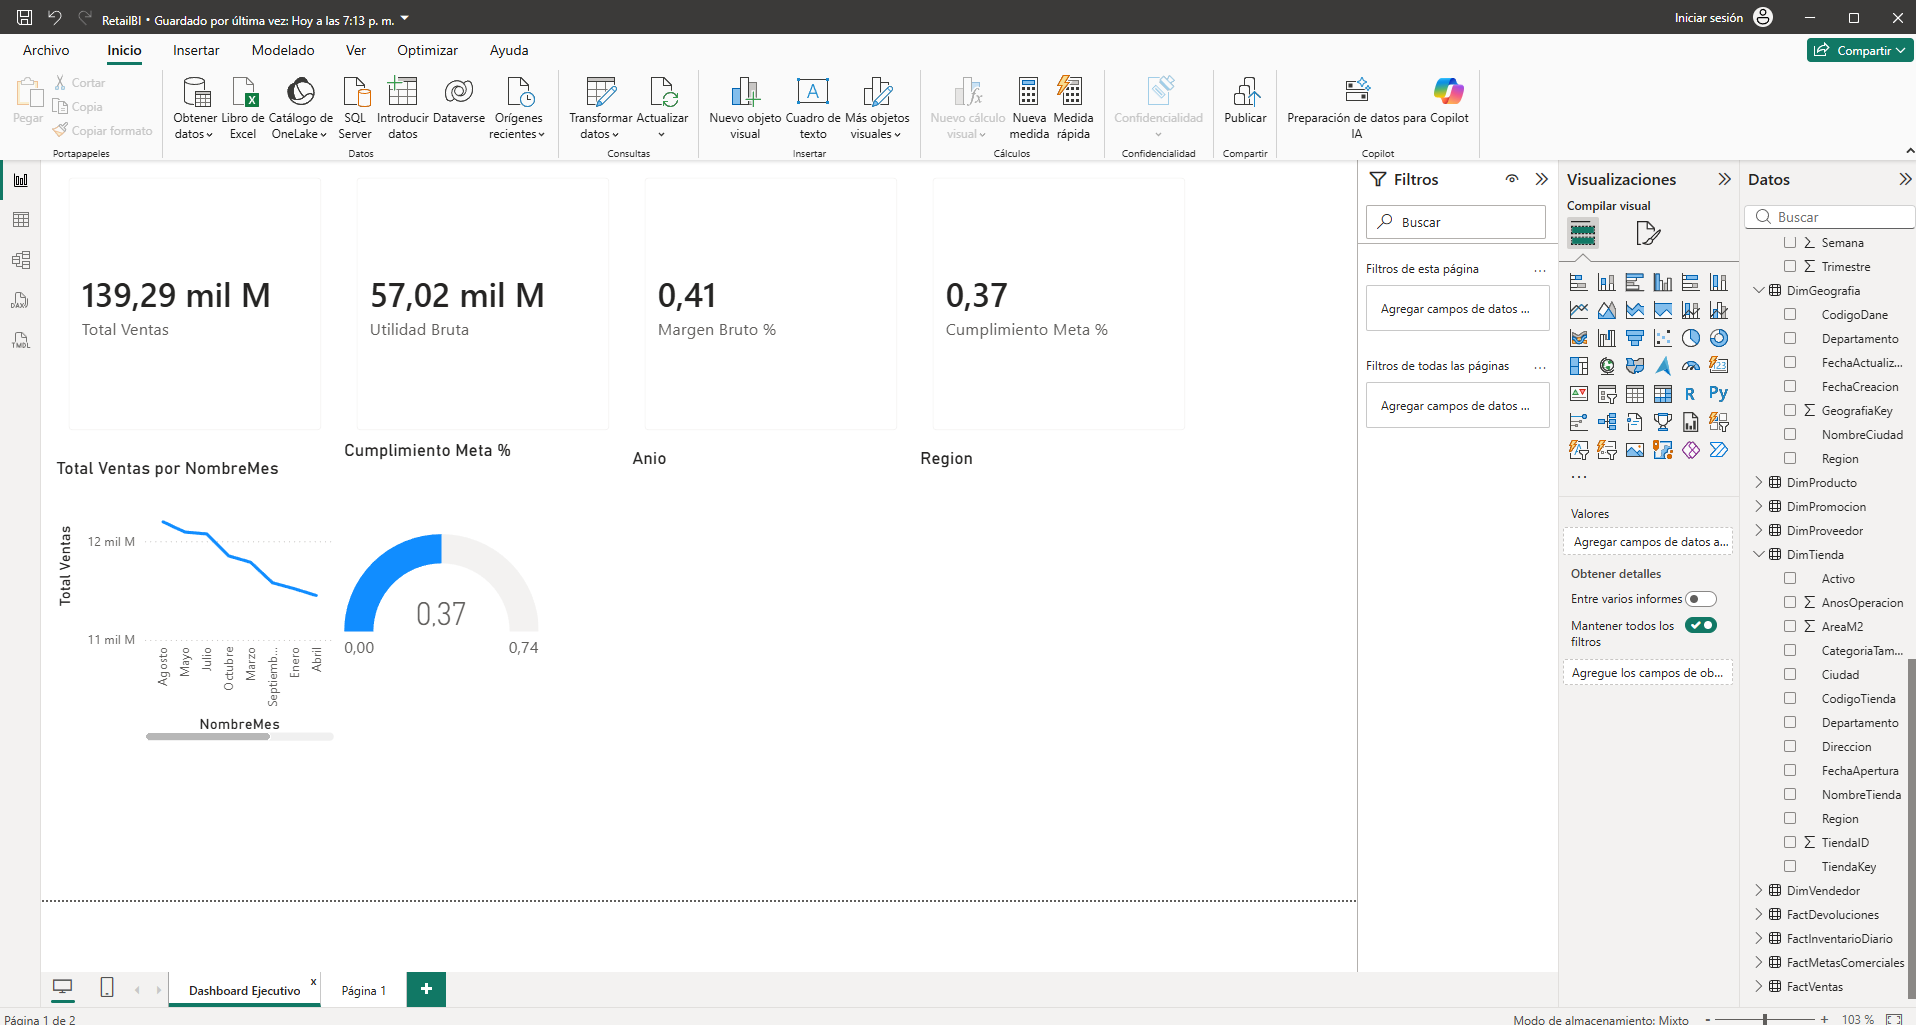

What the dashboard file says about the page in this screenshot:
{"tool":"powerbi","page":{"name":"Dashboard Ejecutivo","canvas":[1280,720],"ordinal":0},"visuals":[{"type":"cardVisual","fields":{"Data":["_Medidas.Total Ventas"]},"box":[9.9,0,254.6,233.8],"z":0},{"type":"cardVisual","fields":{"Data":["_Medidas.Utilidad Bruta"]},"box":[256.6,5.9,259.6,227.9],"z":1000},{"type":"cardVisual","fields":{"Data":["_Medidas.Margen Bruto %"]},"box":[517.2,0,244.7,233.8],"z":2000},{"type":"cardVisual","fields":{"Data":["_Medidas.Cumplimiento Meta %"]},"box":[765.8,0,238.8,233.8],"z":3000},{"type":"lineChart","fields":{"Category":["DimFecha.NombreMes"],"Y":["_Medidas.Total Ventas"]},"box":[9.9,233.8,539.9,286.3],"z":4000},{"type":"gauge","fields":{"Y":["_Medidas.Cumplimiento Meta %"]},"box":[549.8,225.9,435.9,281.4],"z":5000},{"type":"funnel","fields":{"Category":["DimFecha.Anio"]},"box":[1012.5,20.8,100.1,87.2],"z":6000},{"type":"funnel","fields":{"Category":["DimTienda.Region"]},"box":[1012.5,108,107,106],"z":7000}]}

Visuals, with their boxes on the page's 1280x720 design canvas (x1, y1, x2, y2). These are canvas units, not pixel positions in the 1916x1025 screenshot, which may show the page scaled, cropped or inside an application window:
cardVisual - _Medidas.Total Ventas: bbox=[10, 0, 264, 234]
cardVisual - _Medidas.Utilidad Bruta: bbox=[257, 6, 516, 234]
cardVisual - _Medidas.Margen Bruto %: bbox=[517, 0, 762, 234]
cardVisual - _Medidas.Cumplimiento Meta %: bbox=[766, 0, 1005, 234]
lineChart - DimFecha.NombreMes x _Medidas.Total Ventas: bbox=[10, 234, 550, 520]
gauge - _Medidas.Cumplimiento Meta %: bbox=[550, 226, 986, 507]
funnel - DimFecha.Anio: bbox=[1012, 21, 1113, 108]
funnel - DimTienda.Region: bbox=[1012, 108, 1120, 214]
